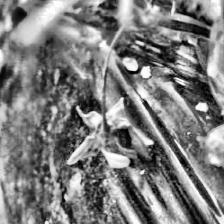Gray Mold: (66, 96, 154, 170), (196, 80, 224, 168)
